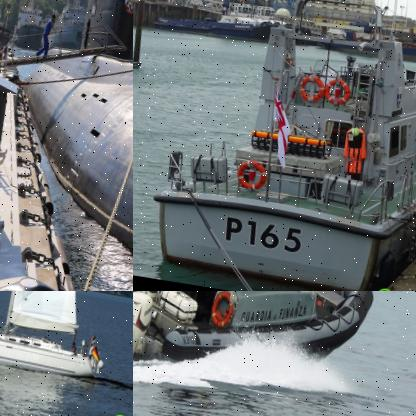Patrol Boat: (142, 0, 415, 290), (133, 291, 398, 408), (151, 0, 303, 50)
Sails Boat: (0, 291, 132, 382)
Submarine: (0, 0, 132, 290)
